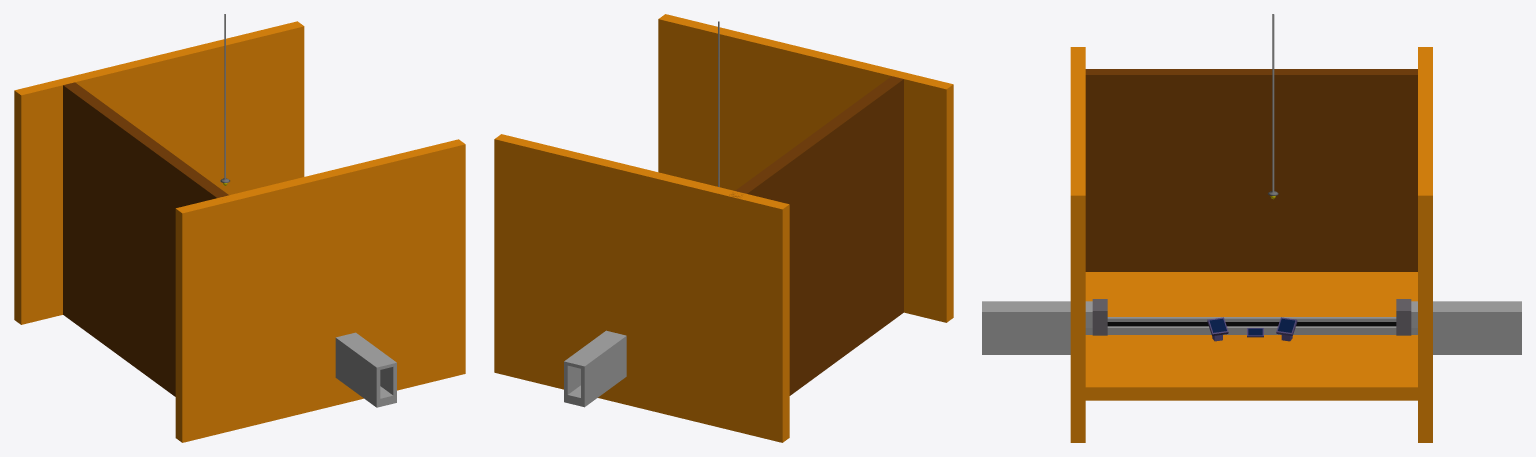
The model's file is shop_meny_stomp.glb.
3 views of the same model, side by side, from view 1: azimuth 30°, elevation 25°; view 2: azimuth 150°, elevation 25°; view 3: azimuth 270°, elevation 25° (orthographic). The views are drawn at different scales.
Parts seen in each view (by area): view 1: Cube.004, Cube.006; view 2: Cube.004, Cube.005; view 3: Cube.004, Cube.006, Cube.005, Cylinder.004.
Boxes of the visible parts, <box> form: Cube.004: <box>14,21,465,442</box>; Cube.006: <box>335,332,396,407</box>; Cube.004: <box>494,14,953,442</box>; Cube.005: <box>564,330,626,407</box>; Cube.004: <box>1070,47,1432,442</box>; Cube.006: <box>982,299,1107,354</box>; Cube.005: <box>1396,299,1521,354</box>; Cylinder.004: <box>1268,14,1278,199</box>.
Bounding box in the file's own units: 47.44 × 52.29 × 72.71.
